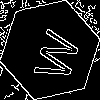W: (25, 25, 82, 84)
